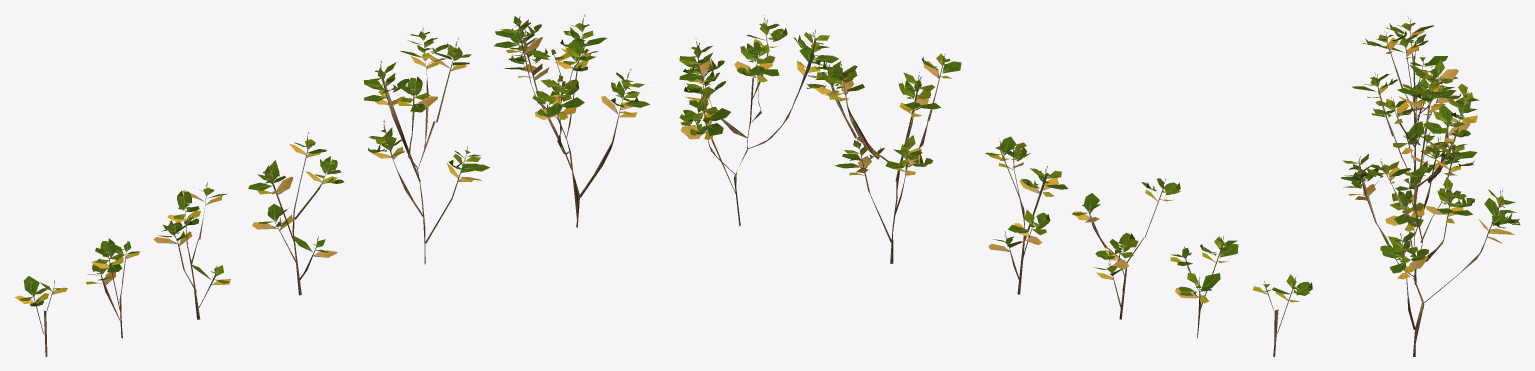
Rendered from periwinkle_plant.glb.
The picture shows the model from 3 angles, left to right: view 1: azimuth 30°, elevation 25°; view 2: azimuth 150°, elevation 25°; view 3: azimuth 270°, elevation 25°; orthographic projection. The views are drawn at different scales.
Visible parts, largest first — view 1: periwinkle_plant_04_LOD0; view 2: periwinkle_plant_04_LOD0; view 3: periwinkle_plant_04_LOD0.
Part boxes in pixels (<box>): periwinkle_plant_04_LOD0: <box>15,14,649,356</box>; periwinkle_plant_04_LOD0: <box>679,14,1312,356</box>; periwinkle_plant_04_LOD0: <box>1341,14,1520,356</box>.
Size of the model in its own units: 1.24 by 0.4006 by 0.3142.
1 material, 1 textured.
